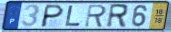3: (22, 4, 42, 29)
6: (131, 5, 149, 28)
L: (64, 5, 82, 27)
P: (39, 3, 66, 28)
R: (105, 3, 129, 29), (83, 4, 108, 28)
